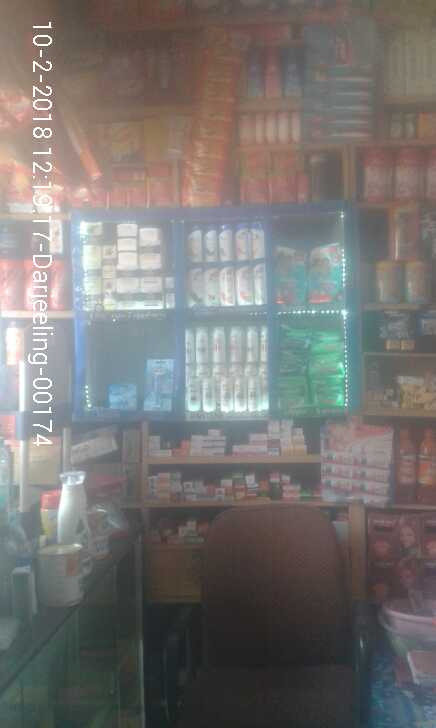venus: (145, 357, 176, 410), (110, 385, 137, 410)
